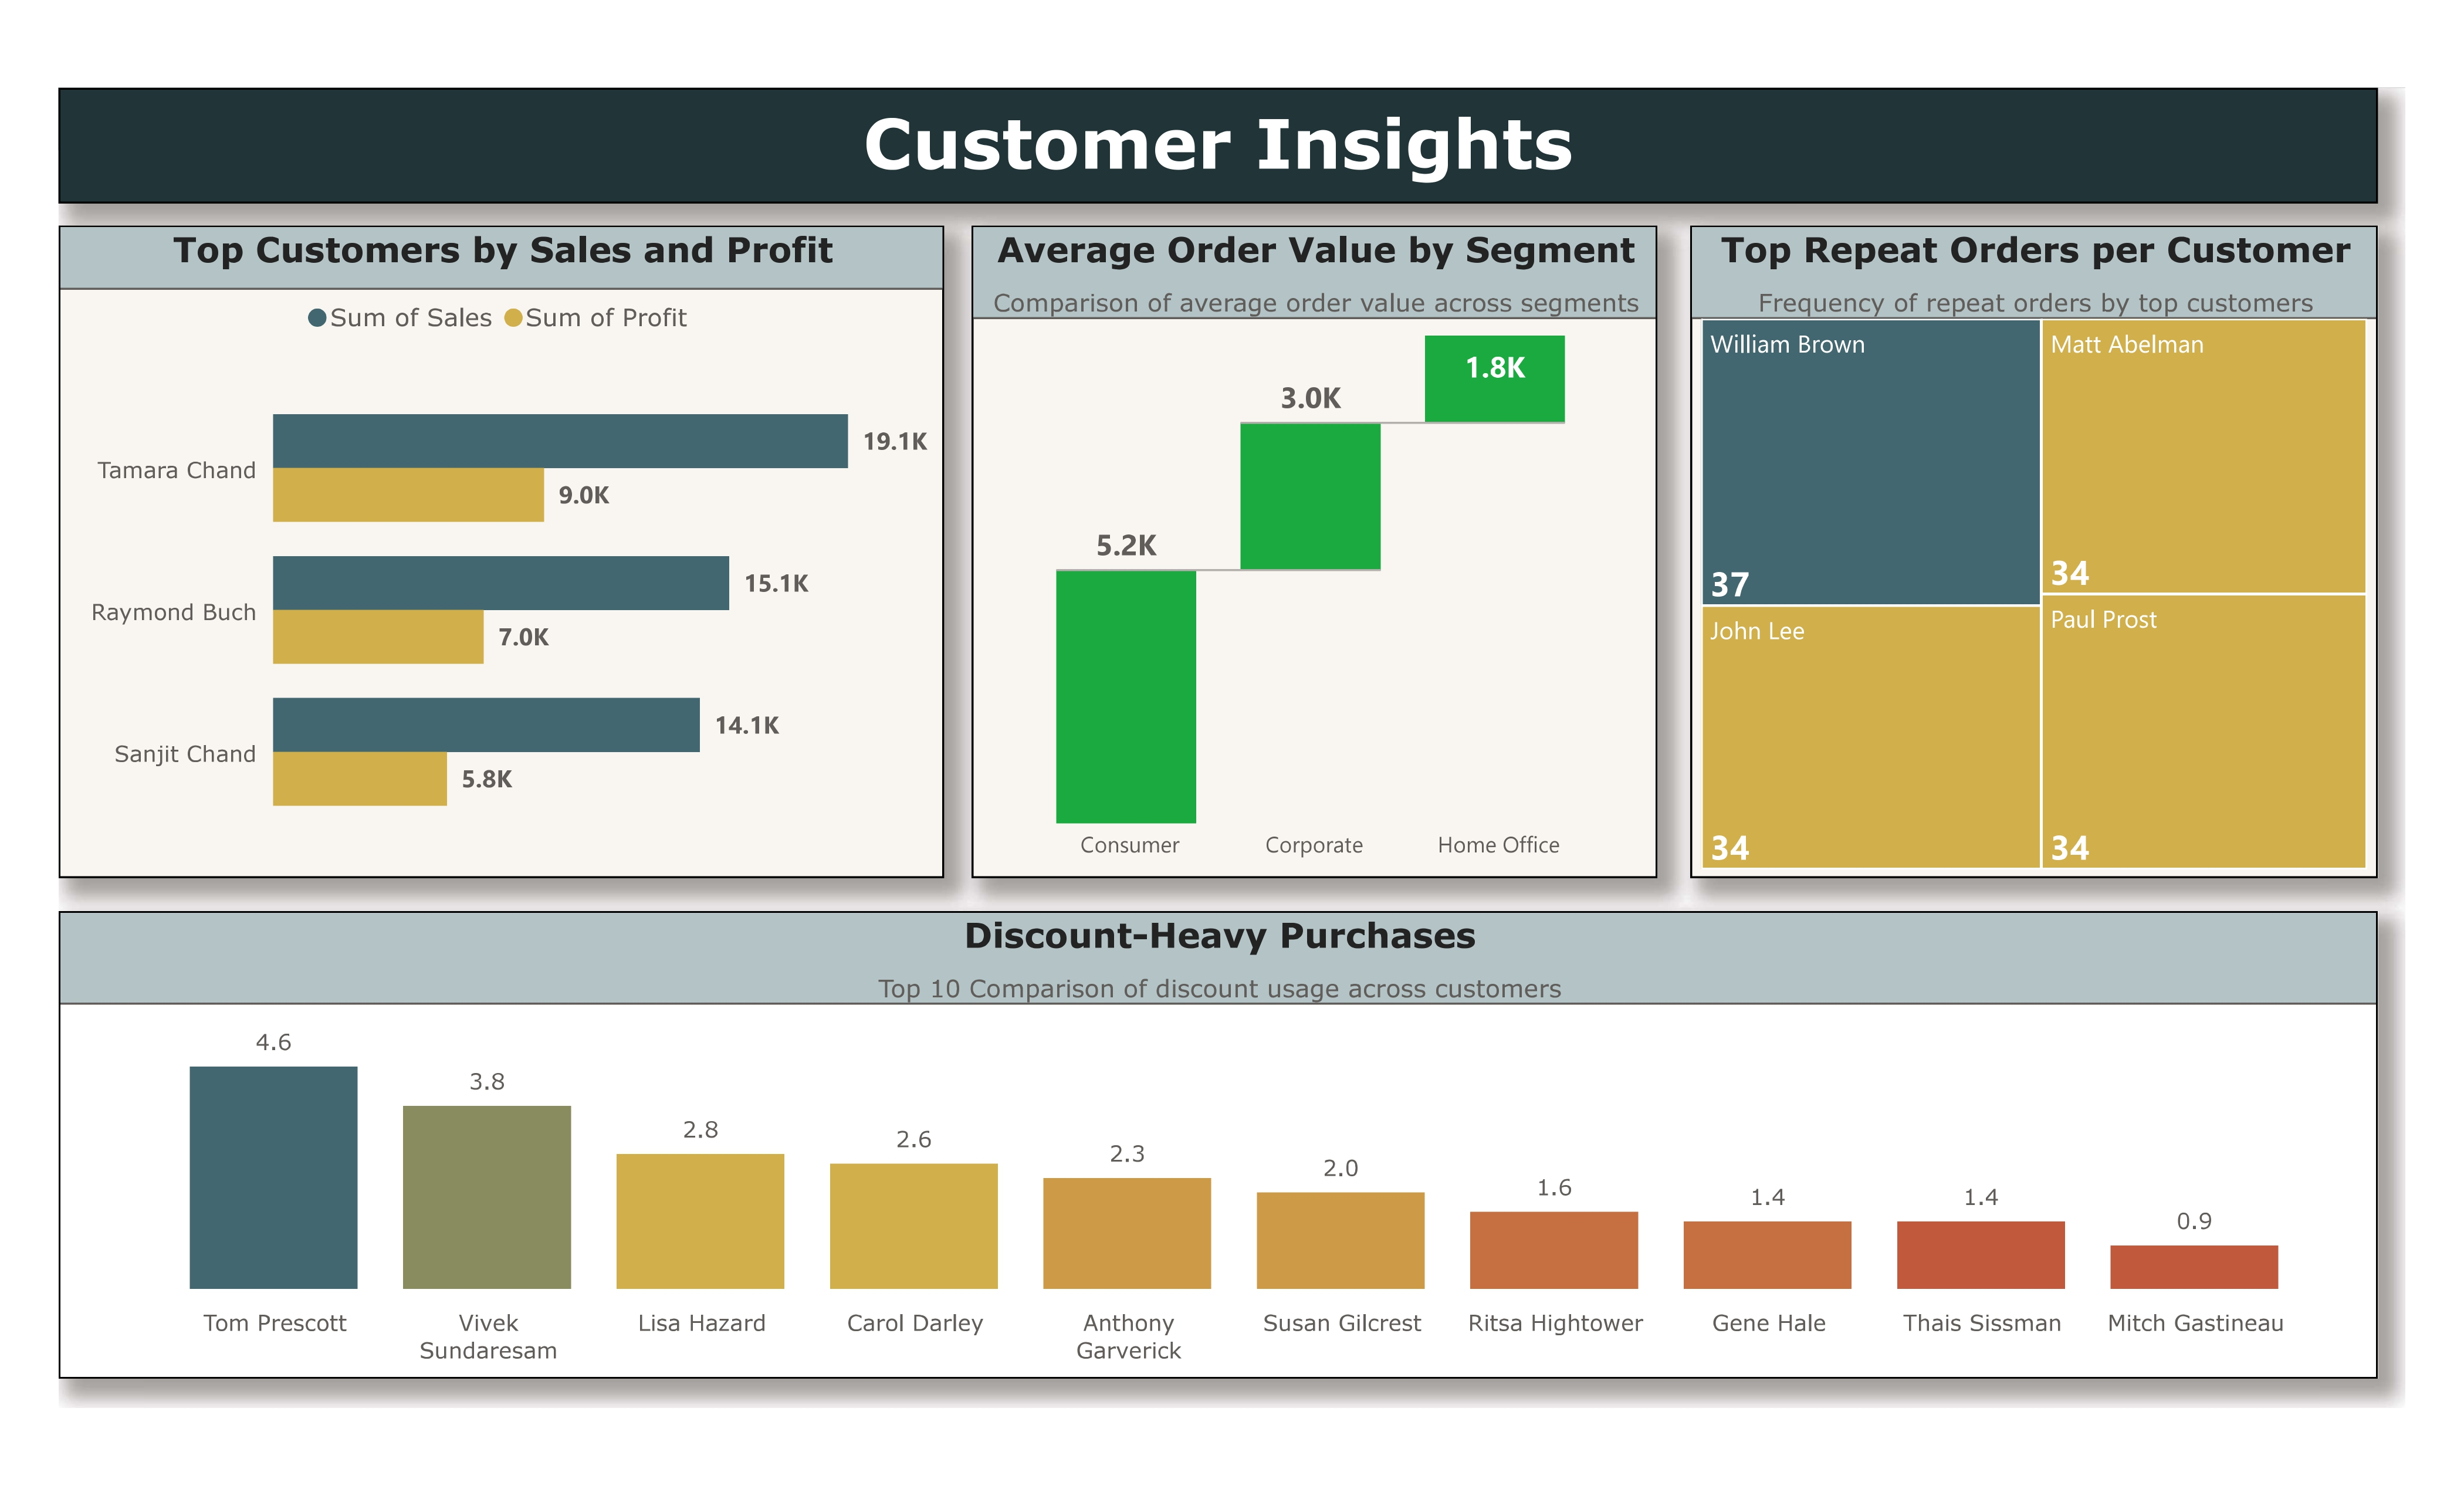

This screenshot's page, from the dashboard's own definition file:
{"tool":"powerbi","page":{"name":"Customer Insights","canvas":[1280,720],"ordinal":2},"visuals":[{"type":"textbox","box":[0,0,1265.5,63.4],"z":0},{"type":"clusteredBarChart","title":"Top Customers by Sales and Profit","fields":{"Category":["Orders.Customer Name"],"Y":["Orders.Sales","Orders.Profit"]},"box":[0,74.8,483.1,356.2],"z":1000},{"type":"waterfallChart","title":"Average Order Value by Segment","fields":{"Category":["Orders.Segment"],"Y":["Orders.Order ID"]},"box":[497.7,74.8,374.1,356.2],"z":2000},{"type":"treemap","title":"Top Repeat Orders per Customer","fields":{"Group":["Orders.Customer Name"],"Values":["Orders.Order ID"]},"box":[889.7,74.8,375.7,356.2],"z":3000},{"type":"clusteredColumnChart","title":"Discount-Heavy Purchases","fields":{"Y":["Orders.Discount"],"Category":["Orders.Customer Name"]},"box":[0,448.9,1265.5,255.4],"z":4000}]}

Visuals, with their boxes in screenshot pixels (x1, y1, x2, y2):
textbox: <bbox>52, 77, 2368, 193</bbox>
"Top Customers by Sales and Profit" clusteredBarChart: <bbox>52, 214, 936, 866</bbox>
"Average Order Value by Segment" waterfallChart: <bbox>963, 214, 1648, 866</bbox>
"Top Repeat Orders per Customer" treemap: <bbox>1680, 214, 2368, 866</bbox>
"Discount-Heavy Purchases" clusteredColumnChart: <bbox>52, 899, 2368, 1366</bbox>
